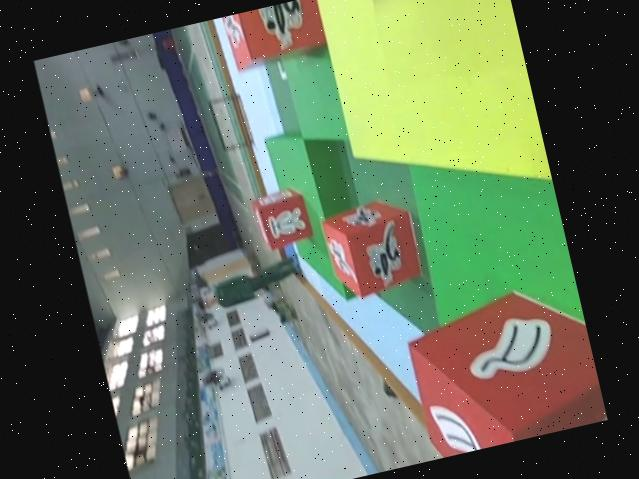R1: (317, 192, 427, 303), (218, 0, 326, 73)
R2 Fake: (249, 185, 315, 252)
R2 Real: (396, 274, 607, 460)
